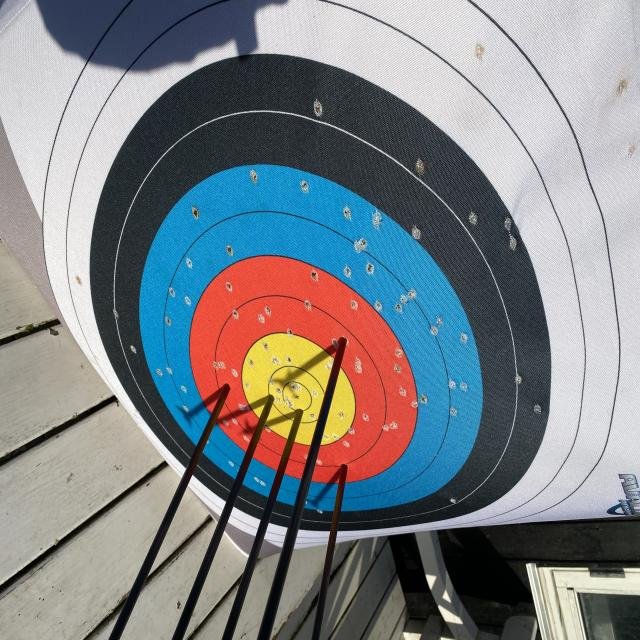Arrow_Red: (322, 319, 363, 367), (200, 365, 241, 411), (329, 449, 361, 497)
Arrow_Yellow: (284, 369, 319, 446), (259, 384, 285, 431)
